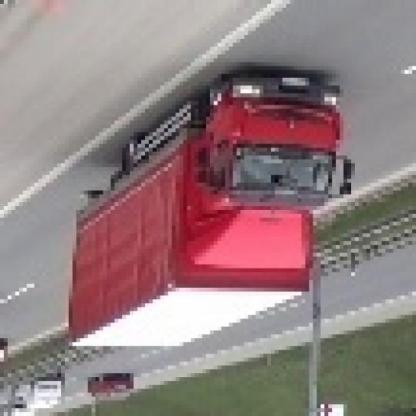truck: (73, 75, 360, 355)
